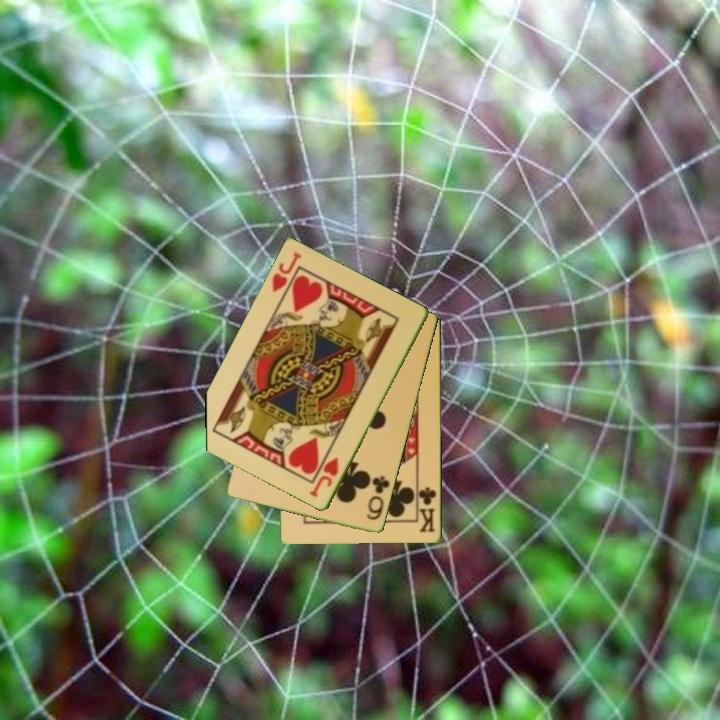6c: (363, 472, 393, 524)
Jh: (268, 249, 305, 296), (306, 454, 342, 501)
Kc: (415, 481, 439, 535)
